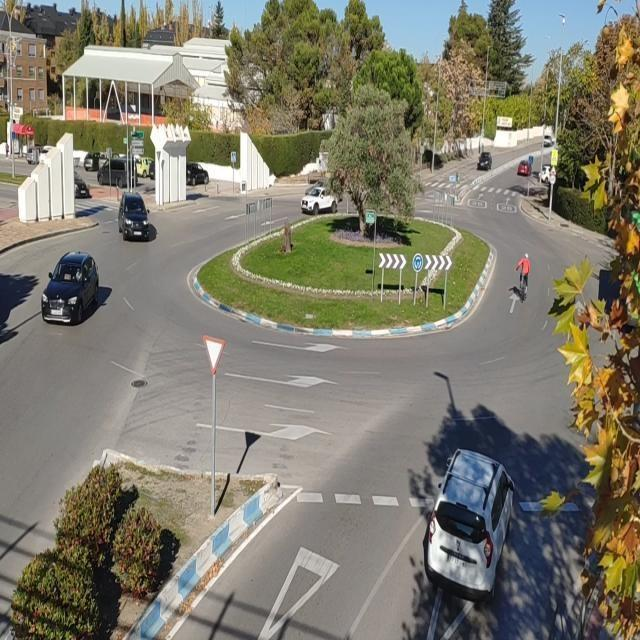Car: (424, 446, 515, 604), (41, 251, 100, 324), (118, 193, 150, 241), (301, 187, 338, 214), (477, 152, 492, 170), (516, 160, 532, 176)
Cycle: (517, 275, 530, 304)
Van: (97, 157, 138, 187)
